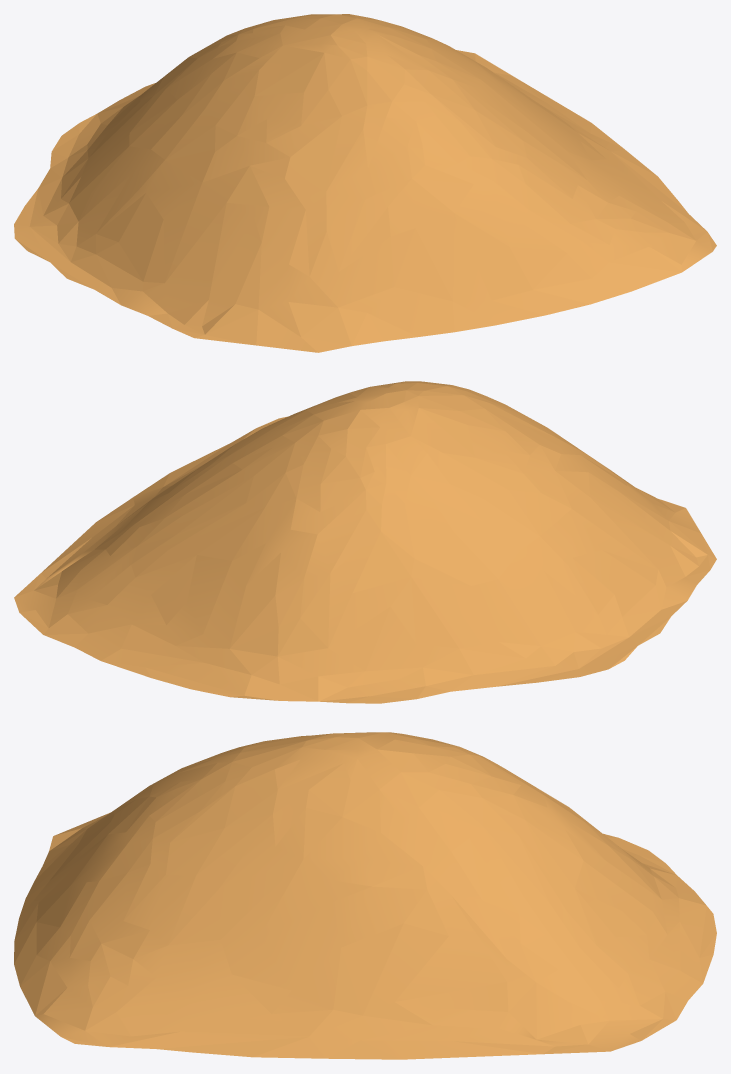
Rendered from Mounting_1_1.fbx.
3 renders of one model, top to bottom at view 1: azimuth 30°, elevation 25°; view 2: azimuth 150°, elevation 25°; view 3: azimuth 270°, elevation 25°, orthographic. The views are drawn at different scales.
Visible parts, largest first — view 1: Mounting_1; view 2: Mounting_1; view 3: Mounting_1.
Boxes of the visible parts, left/top/right/bottom form: Mounting_1: left=14, top=14, right=716, bottom=352; Mounting_1: left=14, top=381, right=716, bottom=703; Mounting_1: left=14, top=732, right=716, bottom=1059.
Size of the model in its own units: 1556 by 460 by 1641.
